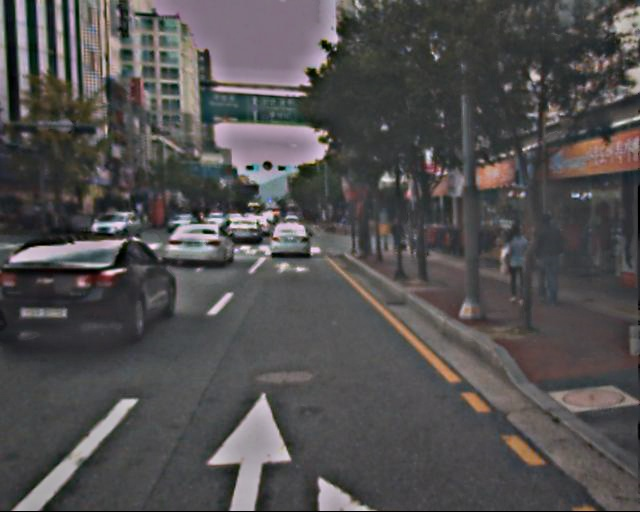person: (525, 213, 564, 309), (500, 223, 534, 306), (408, 219, 425, 261)
